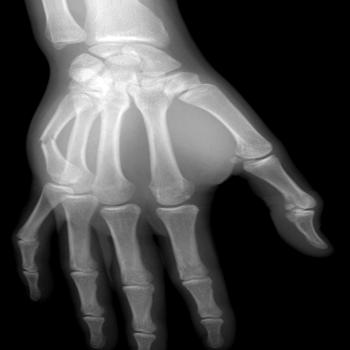Fracture: (34, 131, 62, 151)
